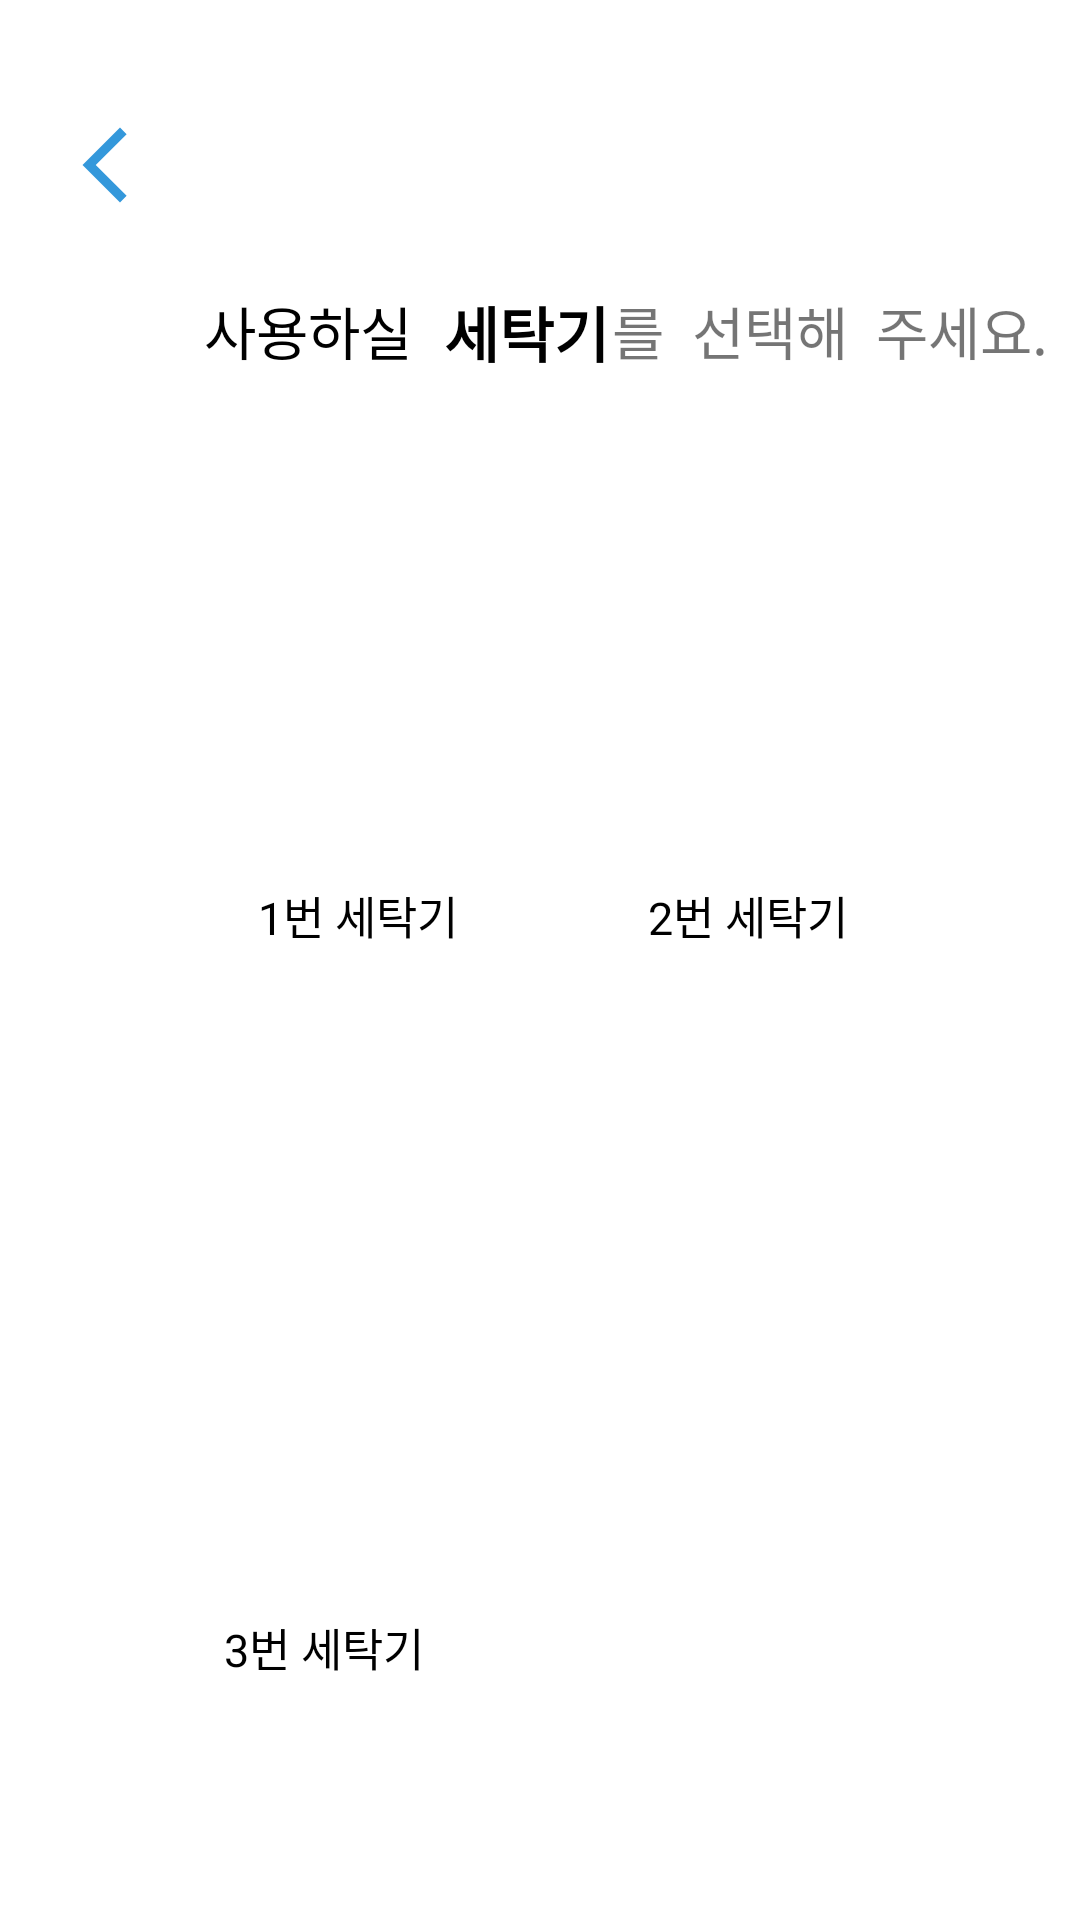

Icon bounding boxes for this 1080 × 1920 phone screenshot, format (left=x1, top=y1, right=x2, bottom=y2):
back: (left=83, top=127, right=127, bottom=203)
